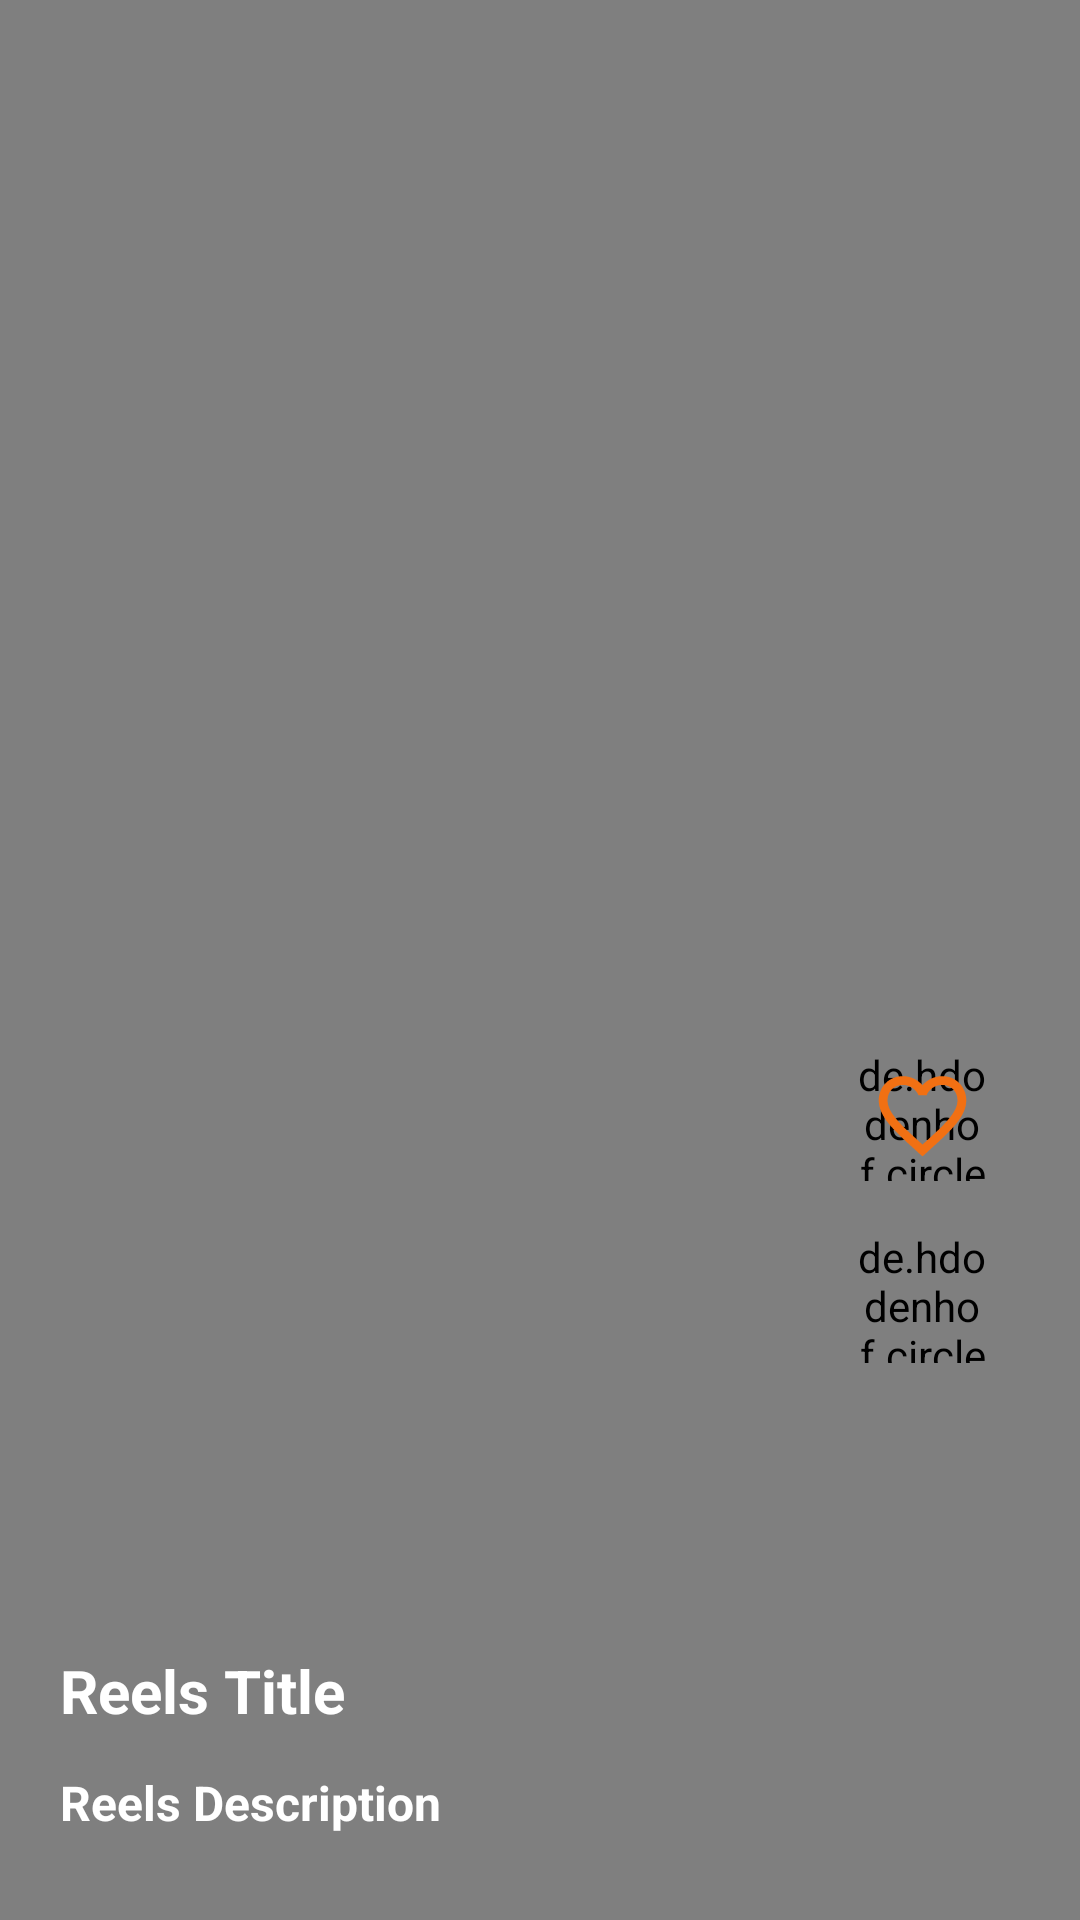

Where icons sit on this 1080w x 1920h app screen, as [x1, y1, x2, y2]:
unfavourite: [870, 1063, 975, 1163]
